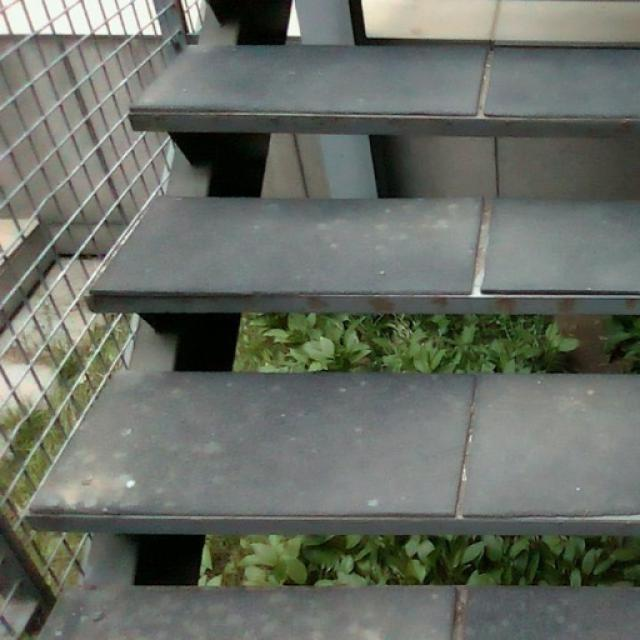stair: (64, 18, 638, 614)
